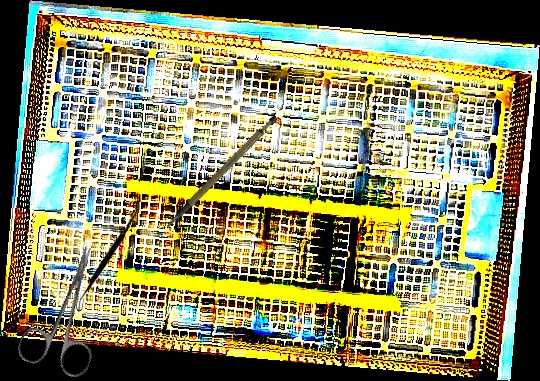Iris Scissors: (14, 236, 126, 381)
Scalpel Handle: (150, 112, 291, 229)
Spatula Surgical: (74, 198, 142, 312)
